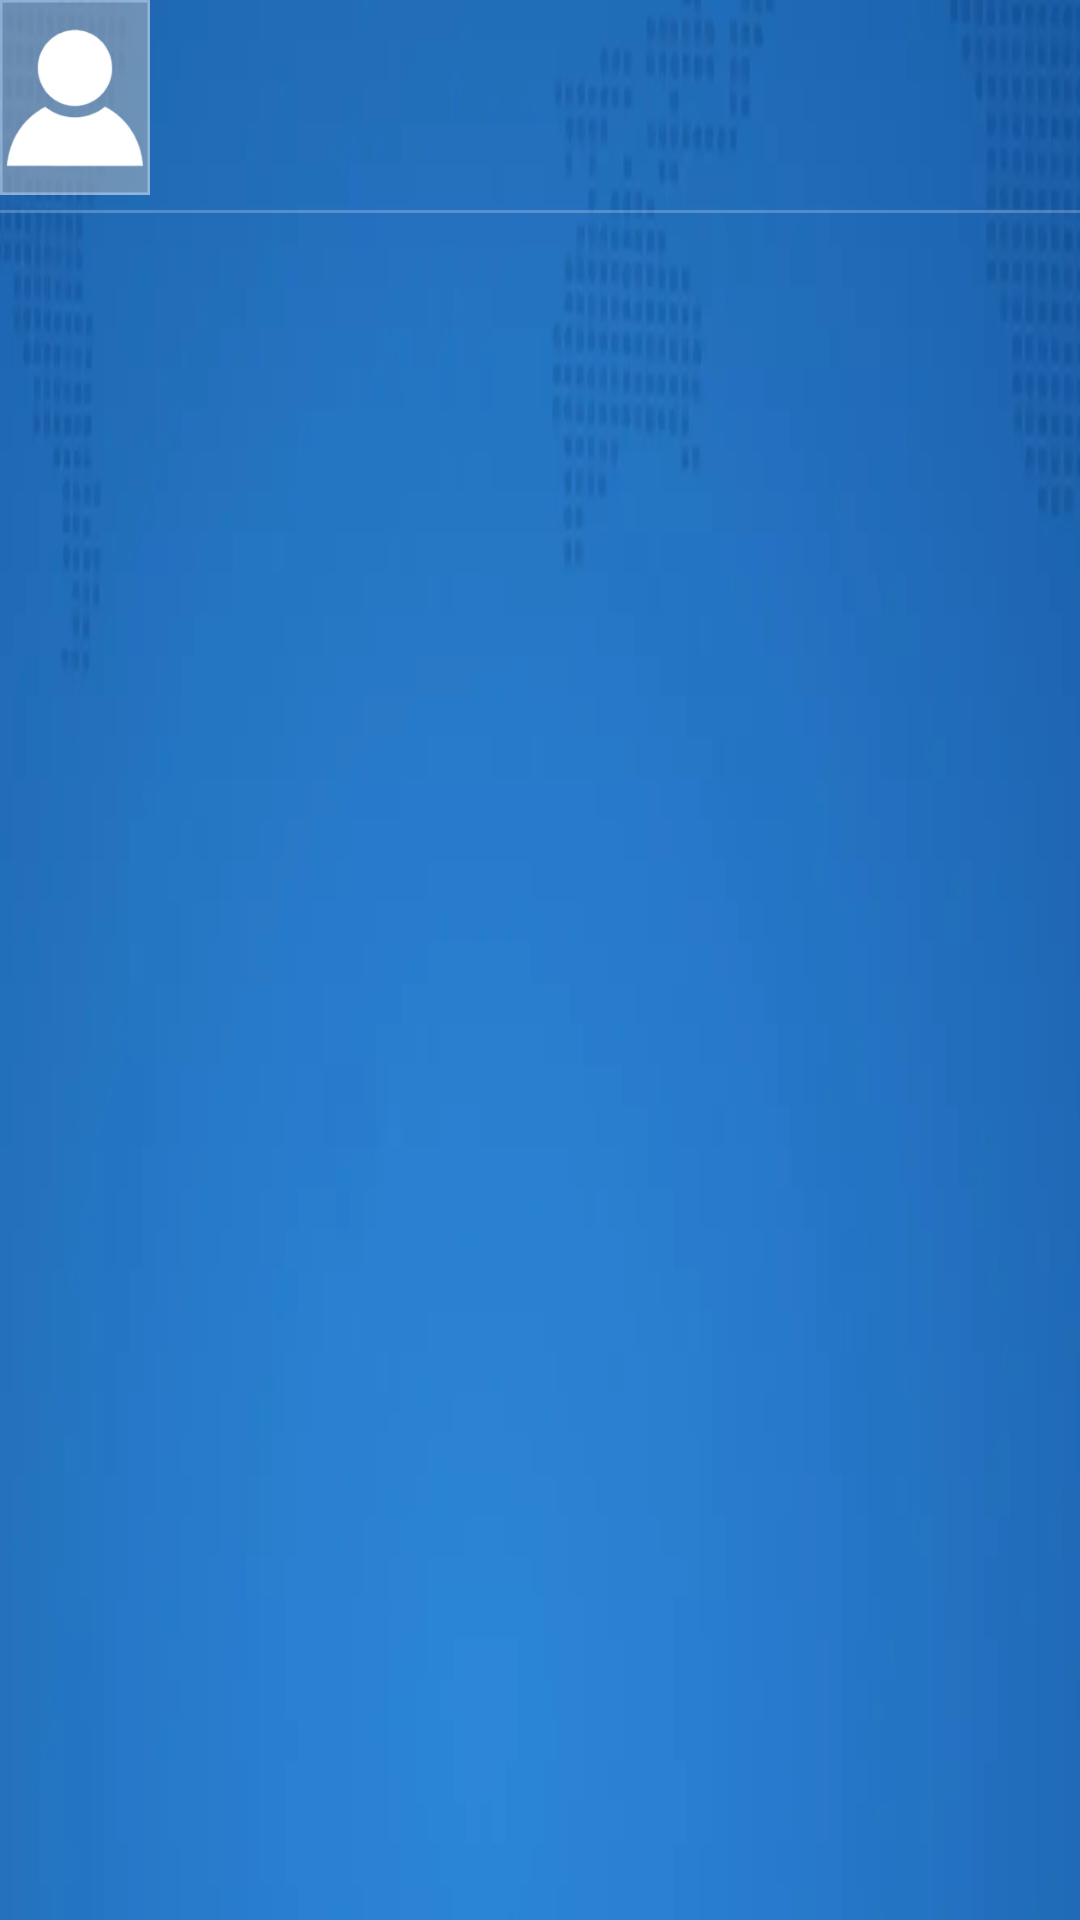

Icons on this 1080 × 1920 Android screen, each with its box as (x1, y1, x2, y2):
teacher head: (0, 0, 150, 195)
